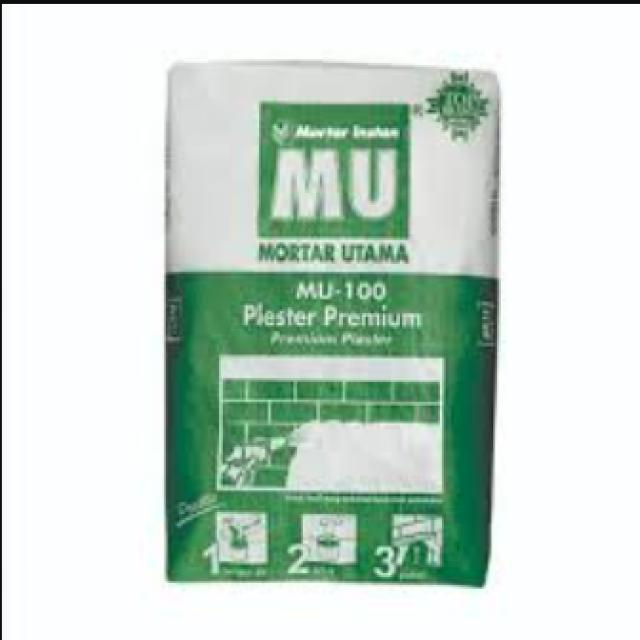KantongSemen: (162, 57, 501, 587)
